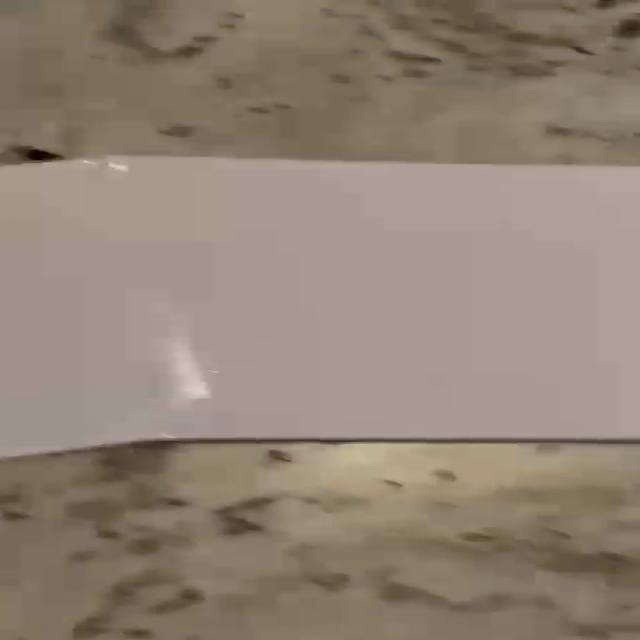road: (1, 156, 639, 455)
